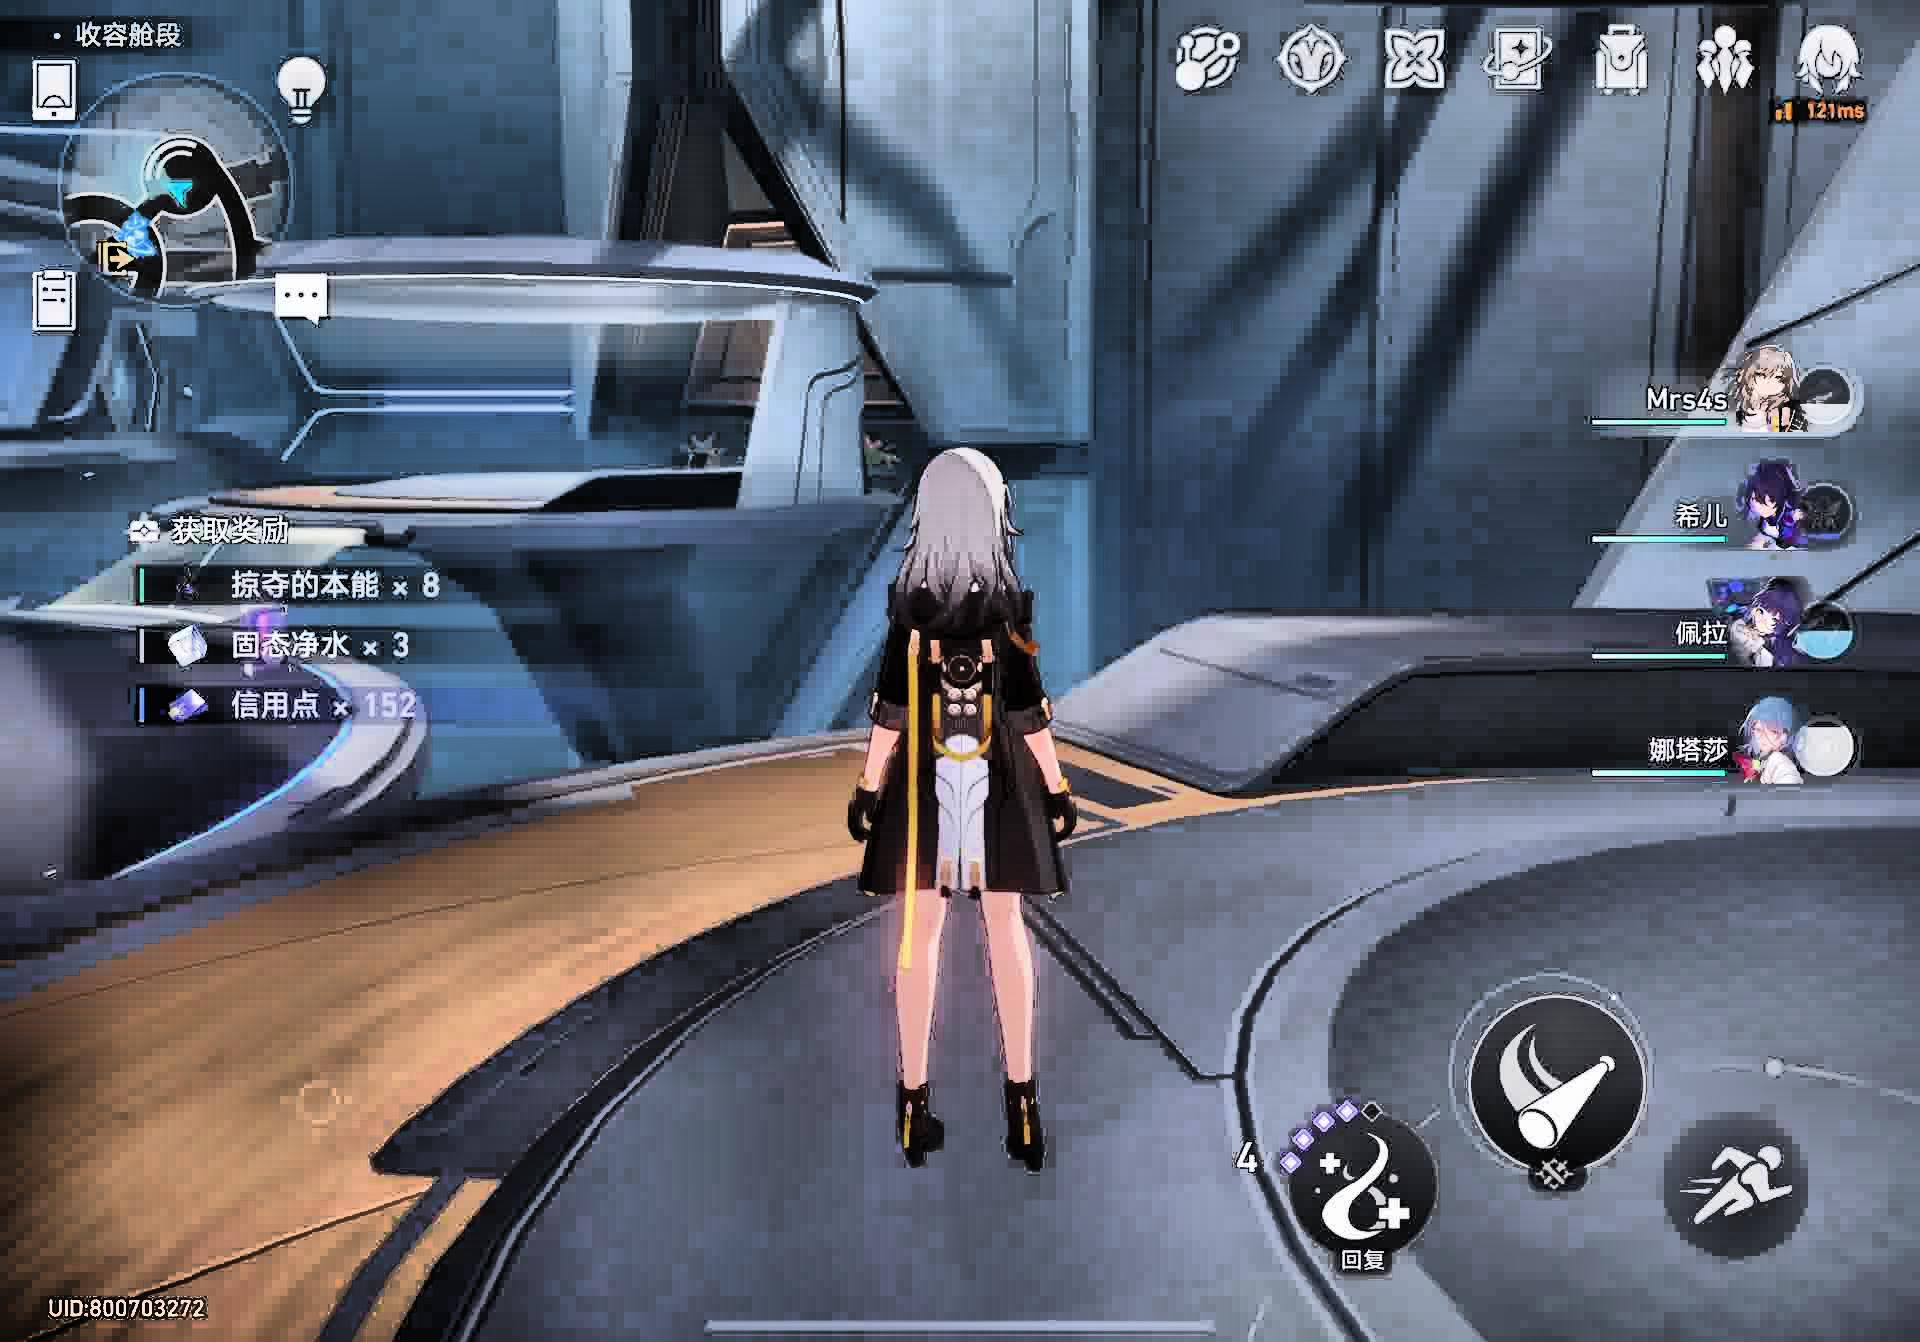Self: (842, 438, 1084, 1174)
